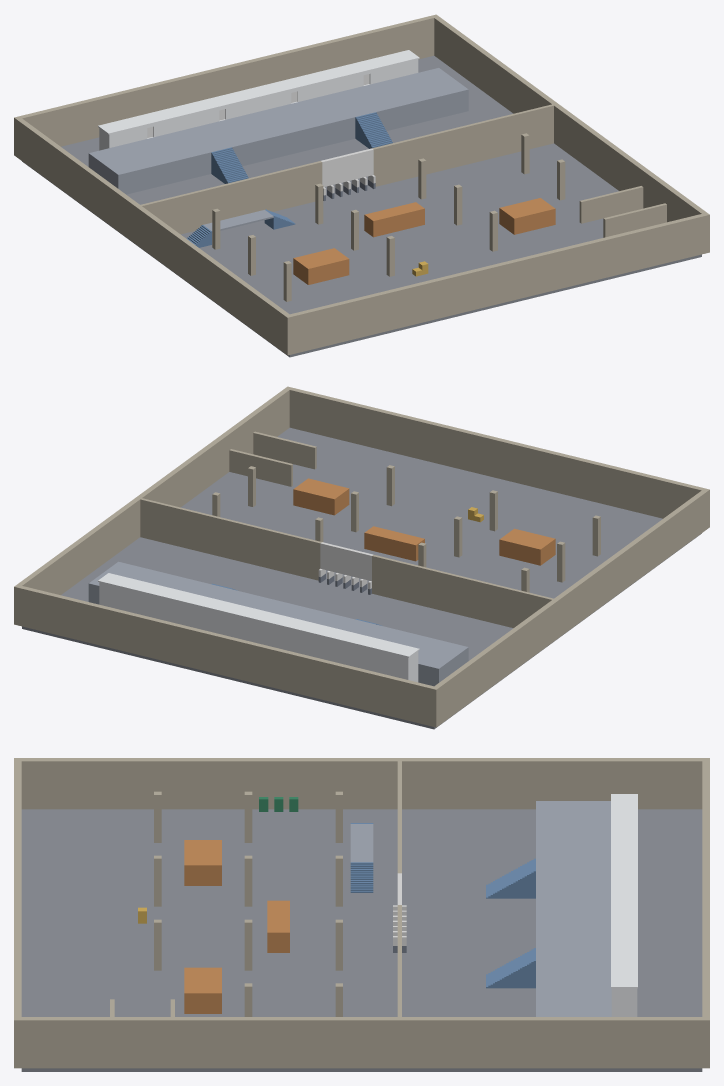
The model's file is tokyo_station_open.glb.
3 renders of one model, top to bottom at view 1: azimuth 30°, elevation 25°; view 2: azimuth 150°, elevation 25°; view 3: azimuth 270°, elevation 25°, orthographic. The views are drawn at different scales.
Visible parts, largest first — view 1: floor, wall-s, platform-14, wall-n, wall-w, wall-e, gate-wall-e, gate-wall-w, train-roof, kiosk-west, kiosk-east, pocket-wall-n (+9 smaller); view 2: floor, wall-n, wall-s, wall-w, wall-e, gate-wall-e, platform-14, gate-wall-w, train-wall-n, train-roof, train-underframe, kiosk-east (+5 smaller); view 3: floor, wall-e, wall-w, platform-14, train-roof, wall-n, wall-s, kiosk-east, kiosk-west, bento-stand, walkway, gate-wall-w (+1 smaller).
Part boxes in pixels (x1,y1,x2,y2): floor: [22, 55, 701, 357]; wall-s: [284, 212, 709, 355]; platform-14: [88, 68, 468, 194]; wall-n: [14, 14, 438, 156]; wall-w: [17, 118, 289, 352]; wall-e: [434, 16, 706, 222]; gate-wall-e: [372, 104, 553, 186]; gate-wall-w: [140, 161, 322, 234]; train-roof: [98, 50, 419, 134]; kiosk-west: [293, 248, 349, 284]; kiosk-east: [499, 198, 555, 234]; pocket-wall-n: [579, 186, 643, 223]; floor: [22, 427, 701, 729]; wall-n: [14, 584, 439, 727]; wall-s: [285, 386, 709, 528]; wall-w: [434, 490, 706, 724]; wall-e: [17, 388, 289, 595]; gate-wall-e: [140, 498, 321, 580]; platform-14: [88, 561, 468, 686]; gate-wall-w: [372, 555, 553, 627]; train-wall-n: [99, 582, 408, 670]; train-roof: [98, 573, 419, 657]; train-underframe: [99, 596, 418, 682]; kiosk-east: [293, 478, 349, 515]; floor: [21, 809, 702, 1071]; wall-e: [21, 1017, 702, 1068]; wall-w: [21, 758, 702, 809]; platform-14: [536, 801, 611, 1016]; train-roof: [611, 794, 637, 988]; wall-n: [702, 758, 709, 1068]; wall-s: [14, 758, 21, 1068]; kiosk-east: [184, 967, 221, 1013]; kiosk-west: [184, 840, 221, 885]; bento-stand: [267, 900, 289, 952]; walkway: [350, 824, 373, 862]; gate-wall-w: [397, 761, 401, 873].
Bounding box in the file's own units: 82 × 8 × 92.
